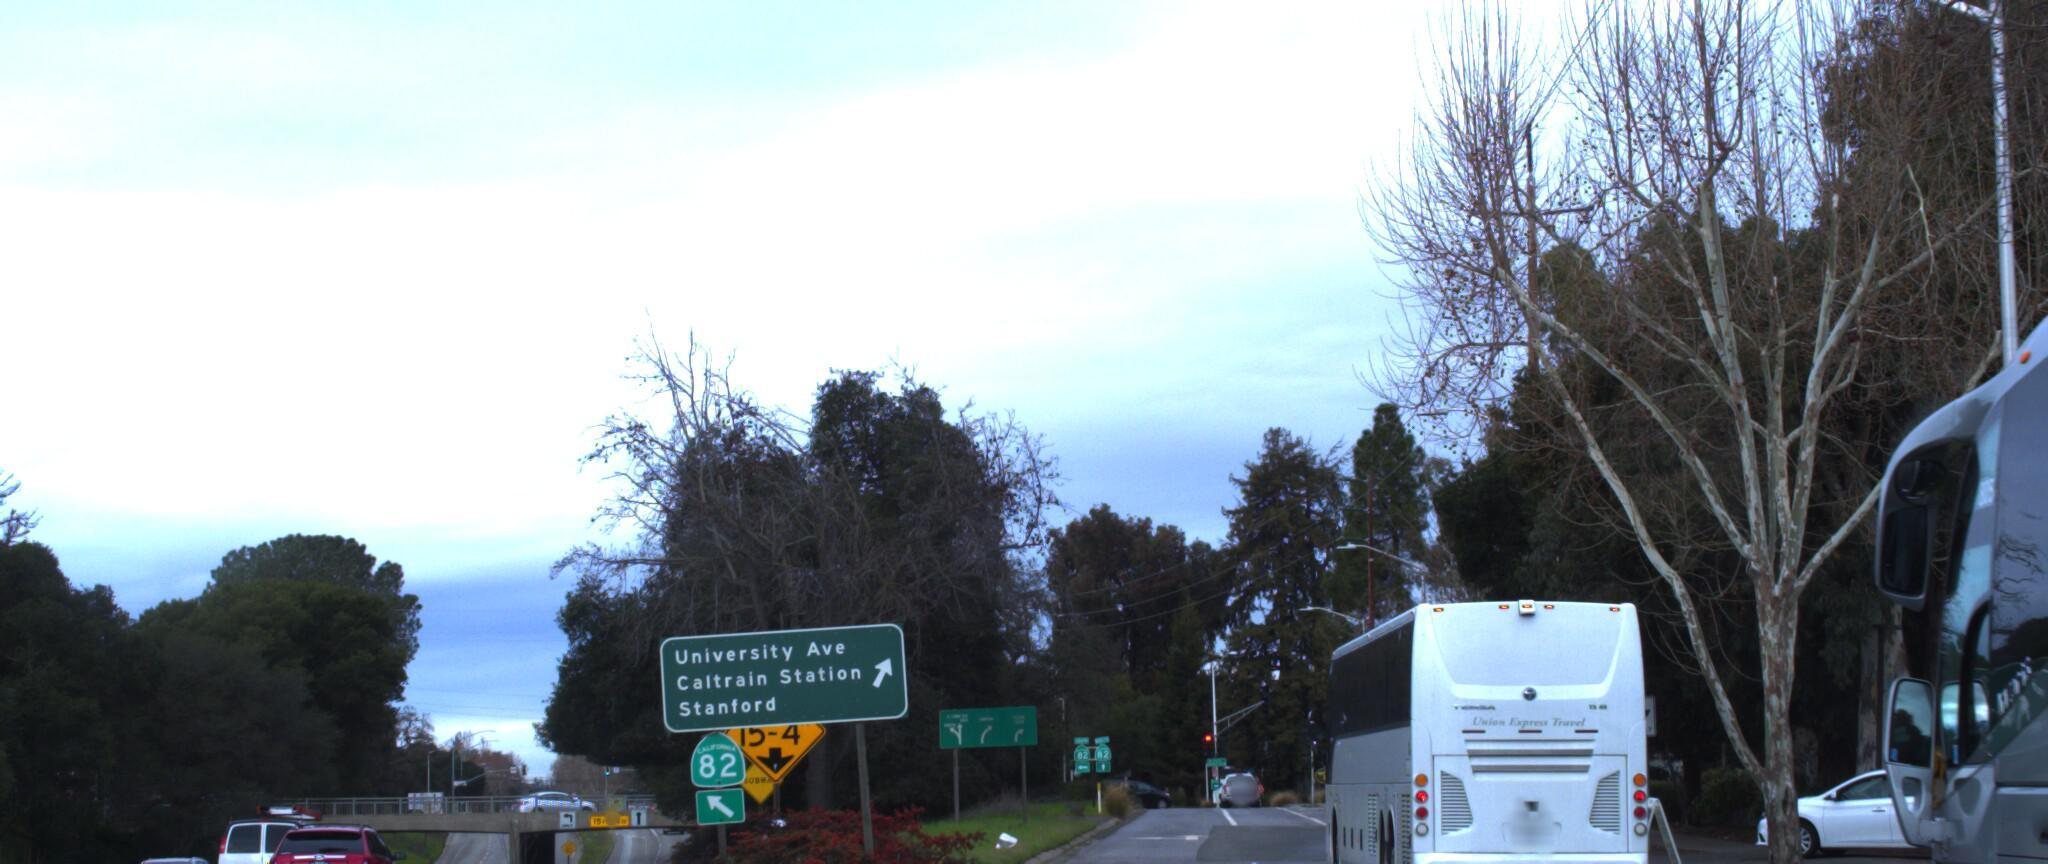bus: (1309, 565, 1673, 864)
car: (1727, 737, 2048, 844), (185, 783, 330, 864), (263, 795, 418, 864)
